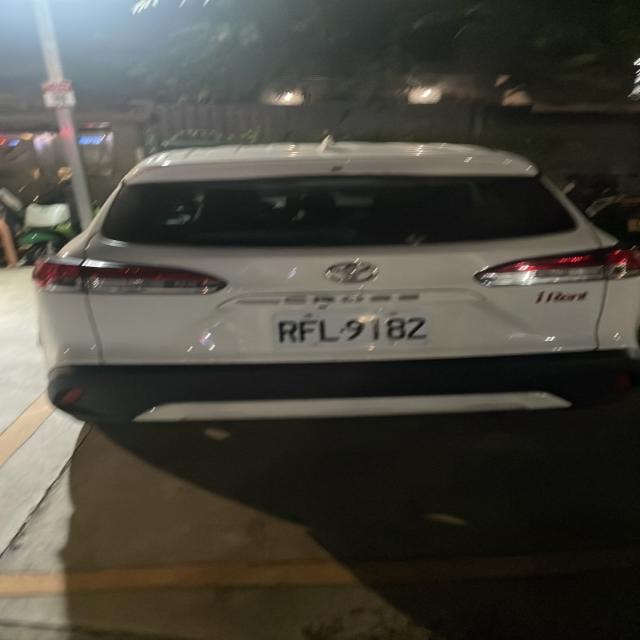license plate: (272, 310, 429, 350)
